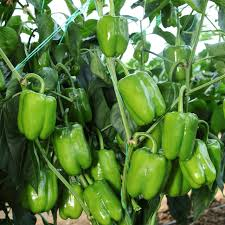Pepper: (115, 69, 162, 123), (124, 148, 173, 198), (16, 89, 55, 146), (51, 124, 91, 175), (96, 15, 131, 58), (165, 112, 195, 160)
